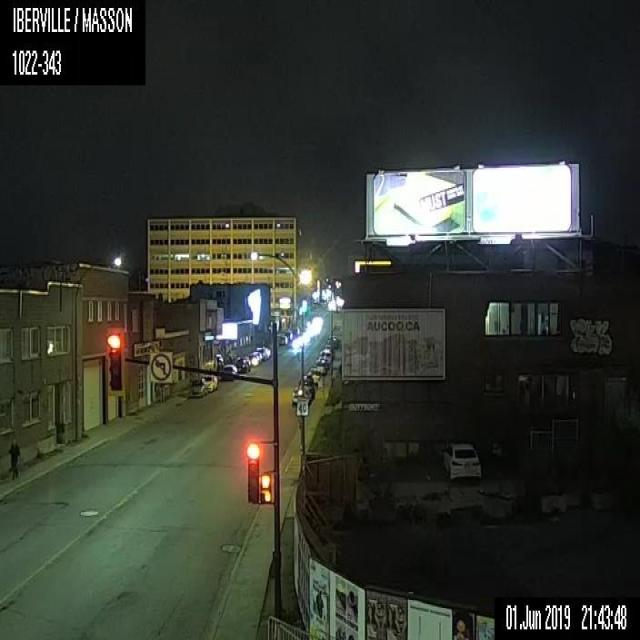vehicle: (442, 440, 481, 481), (297, 375, 315, 400), (291, 388, 313, 407), (188, 379, 207, 397), (200, 374, 218, 392), (219, 364, 237, 381), (233, 356, 250, 373), (319, 348, 331, 368), (312, 358, 326, 374), (308, 367, 320, 385), (326, 335, 339, 350), (255, 346, 266, 361), (248, 352, 258, 365), (277, 335, 287, 345), (284, 328, 292, 340), (291, 325, 299, 334)
